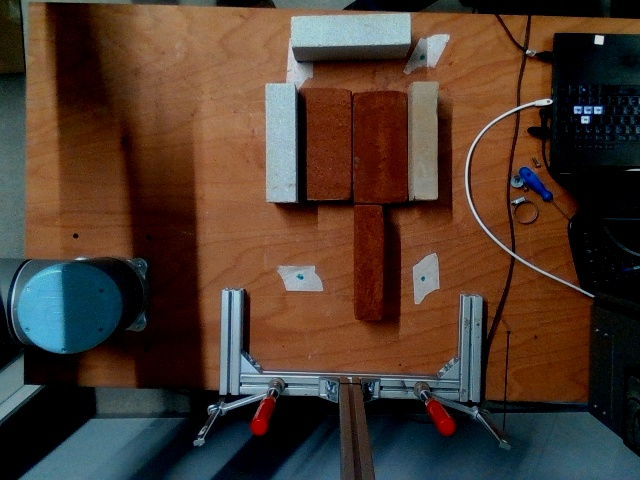brick: (299, 90, 351, 198), (356, 92, 406, 199)
brick-side: (293, 14, 409, 45), (266, 83, 294, 201), (356, 205, 382, 320), (416, 83, 438, 198)
